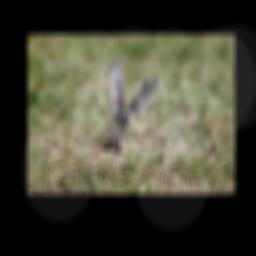Swallow: (98, 58, 158, 154)
